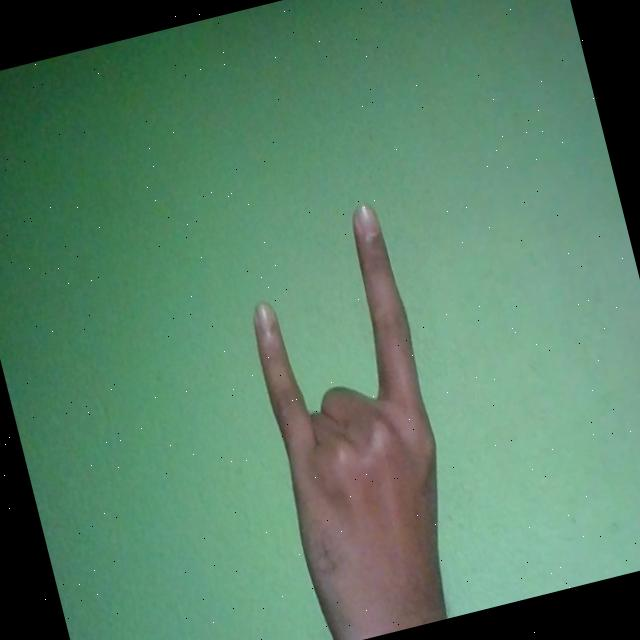open Plam: (224, 198, 480, 640)
